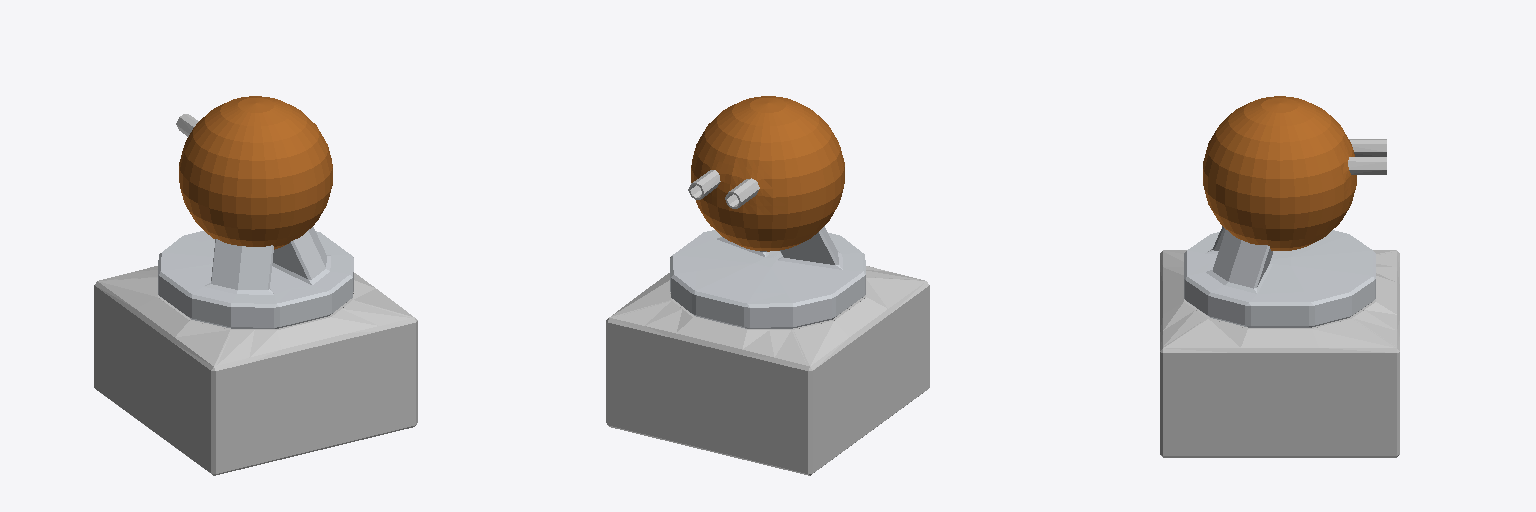
3 renders of one model, left to right at view 1: azimuth 30°, elevation 25°; view 2: azimuth 150°, elevation 25°; view 3: azimuth 270°, elevation 25°, orthographic.
Visible parts, largest first — view 1: Base, Head, Rotator; view 2: Base, Head, Rotator, Barrel; view 3: Base, Head, Rotator, Barrel.
Boxes of the visible parts, x1,y1,x2,y2 form: Base: [94, 266, 417, 475]; Head: [179, 96, 332, 249]; Rotator: [158, 227, 353, 328]; Base: [606, 266, 929, 475]; Head: [691, 96, 844, 251]; Rotator: [670, 226, 865, 328]; Barrel: [688, 170, 759, 208]; Base: [1160, 250, 1399, 457]; Head: [1203, 96, 1356, 250]; Rotator: [1184, 226, 1375, 327]; Barrel: [1348, 139, 1386, 174].
Bounding box in the file's own units: 1.99 × 2.81 × 2.
4 materials, 2 textured.